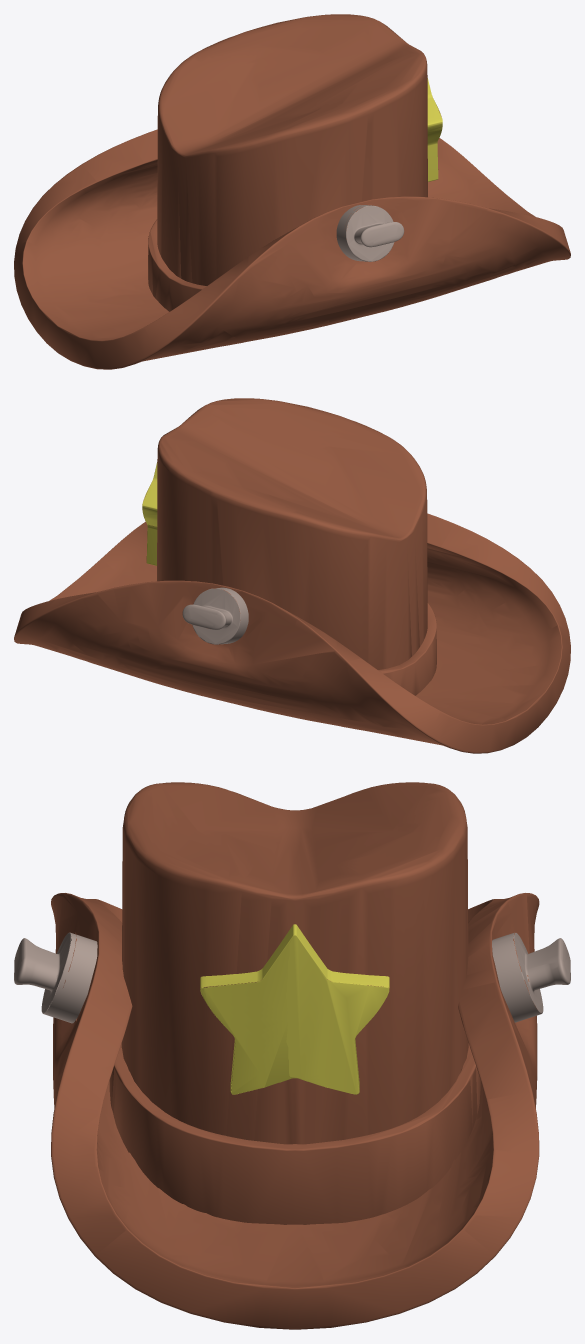
Rendered from cowboy_hat.fbx.
3 renders of one model, top to bottom at view 1: azimuth 30°, elevation 25°; view 2: azimuth 150°, elevation 25°; view 3: azimuth 270°, elevation 25°, orthographic. The views are drawn at different scales.
Parts seen in each view (by area): view 1: 19211_Foam_Cowboy_hat_V1, 19211_Foam_Cowboy_hat_V1.003, 19211_Foam_Cowboy_hat_V1.001; view 2: 19211_Foam_Cowboy_hat_V1, 19211_Foam_Cowboy_hat_V1.002, 19211_Foam_Cowboy_hat_V1.001; view 3: 19211_Foam_Cowboy_hat_V1, 19211_Foam_Cowboy_hat_V1.001, 19211_Foam_Cowboy_hat_V1.003, 19211_Foam_Cowboy_hat_V1.002.
Part boxes in pixels (x1,y1,x2,y2): 19211_Foam_Cowboy_hat_V1: (14,14,570,369); 19211_Foam_Cowboy_hat_V1.003: (336,205,404,261); 19211_Foam_Cowboy_hat_V1.001: (427,78,442,181); 19211_Foam_Cowboy_hat_V1: (14,398,570,753); 19211_Foam_Cowboy_hat_V1.002: (182,587,248,644); 19211_Foam_Cowboy_hat_V1.001: (142,462,157,565); 19211_Foam_Cowboy_hat_V1: (51,782,539,1329); 19211_Foam_Cowboy_hat_V1.001: (200,924,389,1094); 19211_Foam_Cowboy_hat_V1.003: (14,932,97,1023); 19211_Foam_Cowboy_hat_V1.002: (492,932,570,1022).
Size of the model in its own units: 490 by 233 by 331.
